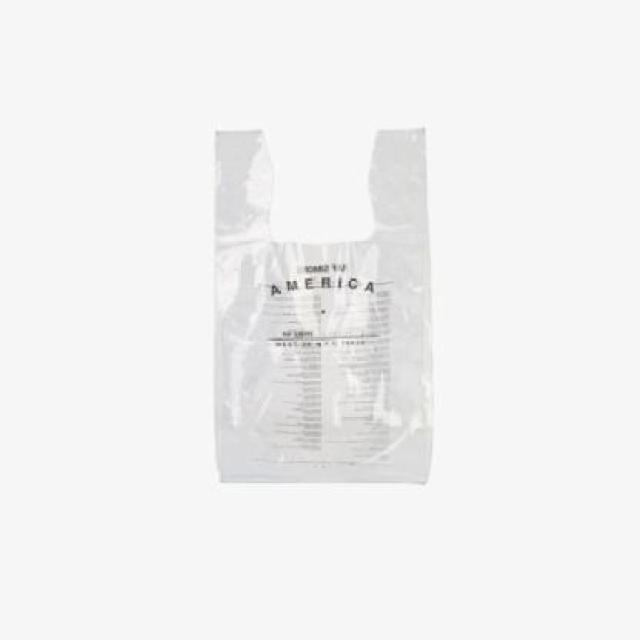plastic bag: (180, 112, 448, 504)
